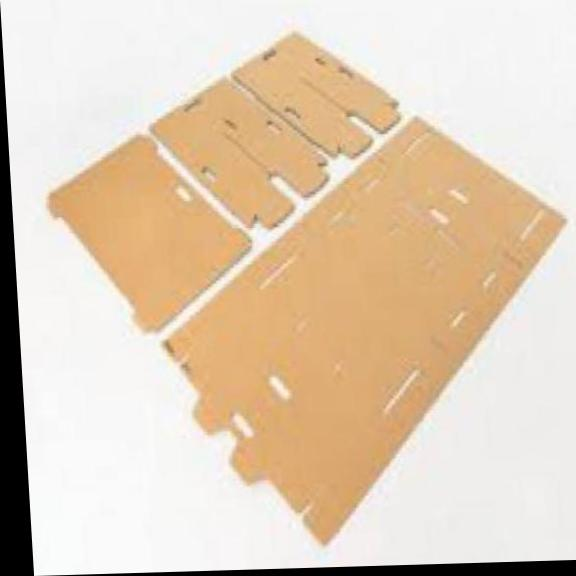Kertas: (166, 119, 563, 541), (49, 137, 249, 329), (152, 79, 326, 226), (233, 32, 399, 156)
